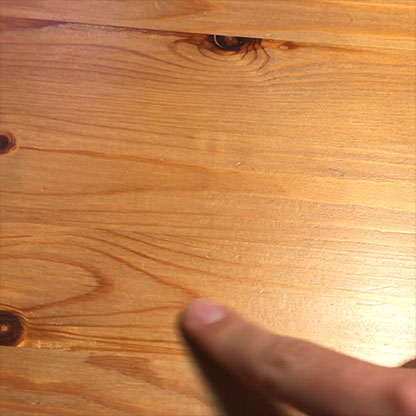fingertip: (180, 286, 232, 332)
